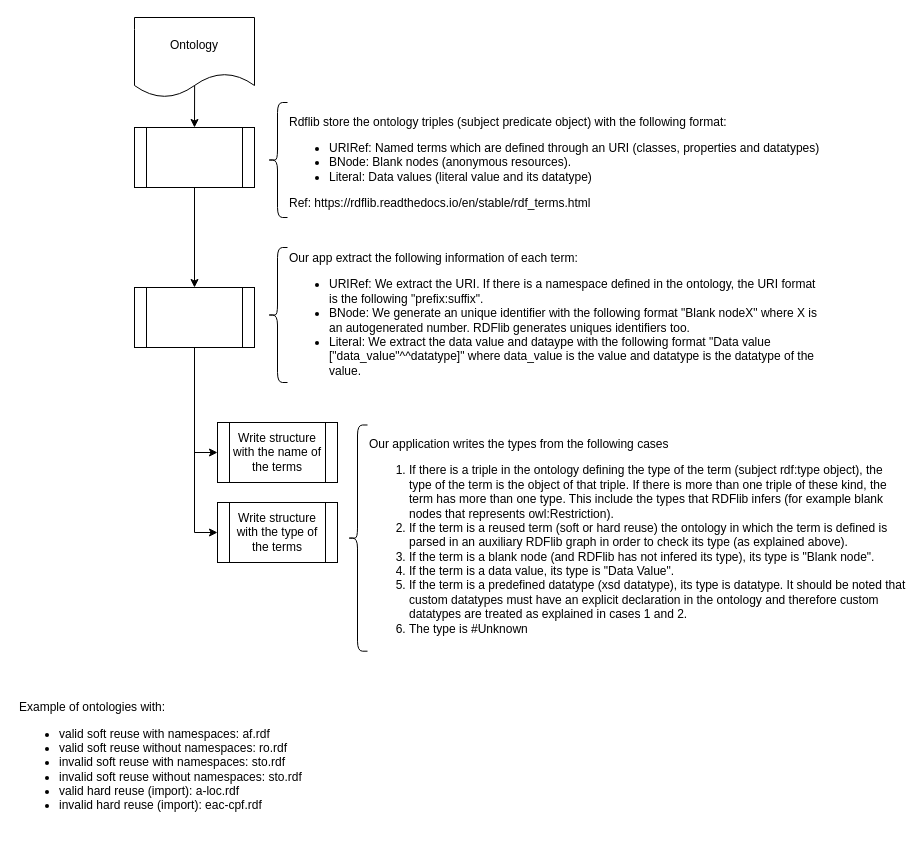
Some shapes in this 924 by 860 pixel diagram are drawn without their labels. Each missing label, with the centre of its shape:
Parse ontology (rdflib): the point at 194,157
Store information about each term: the point at 194,317
